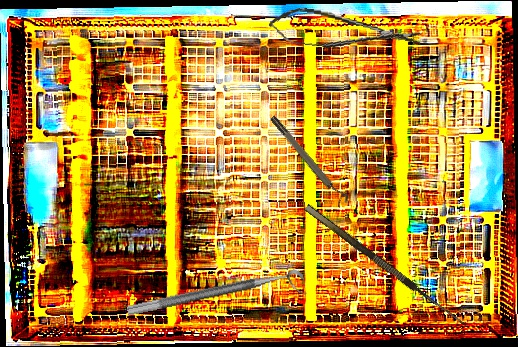Fixation Ring: (126, 267, 307, 332), (268, 110, 351, 209)
Hook Surgical: (304, 195, 474, 330)
Micro Scissor: (267, 3, 423, 61)
